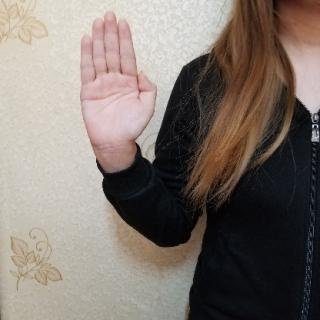SEEN: (74, 8, 162, 160)
